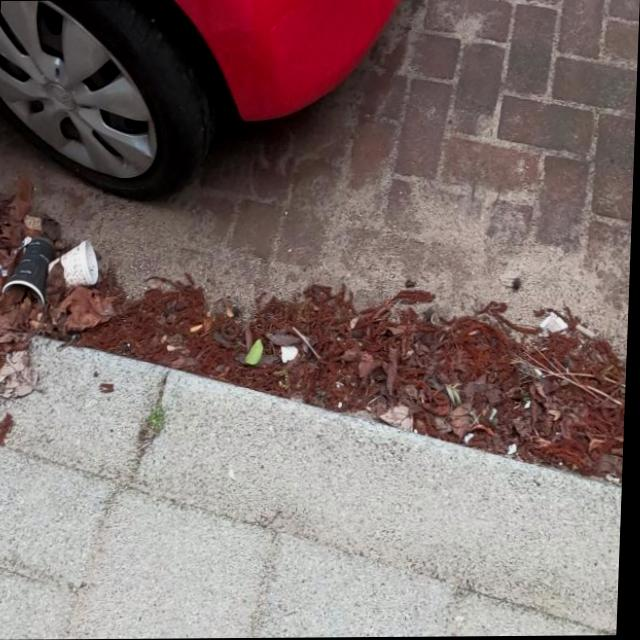Cup: (1, 234, 58, 302), (48, 236, 102, 289)
Paper: (282, 345, 300, 363)
